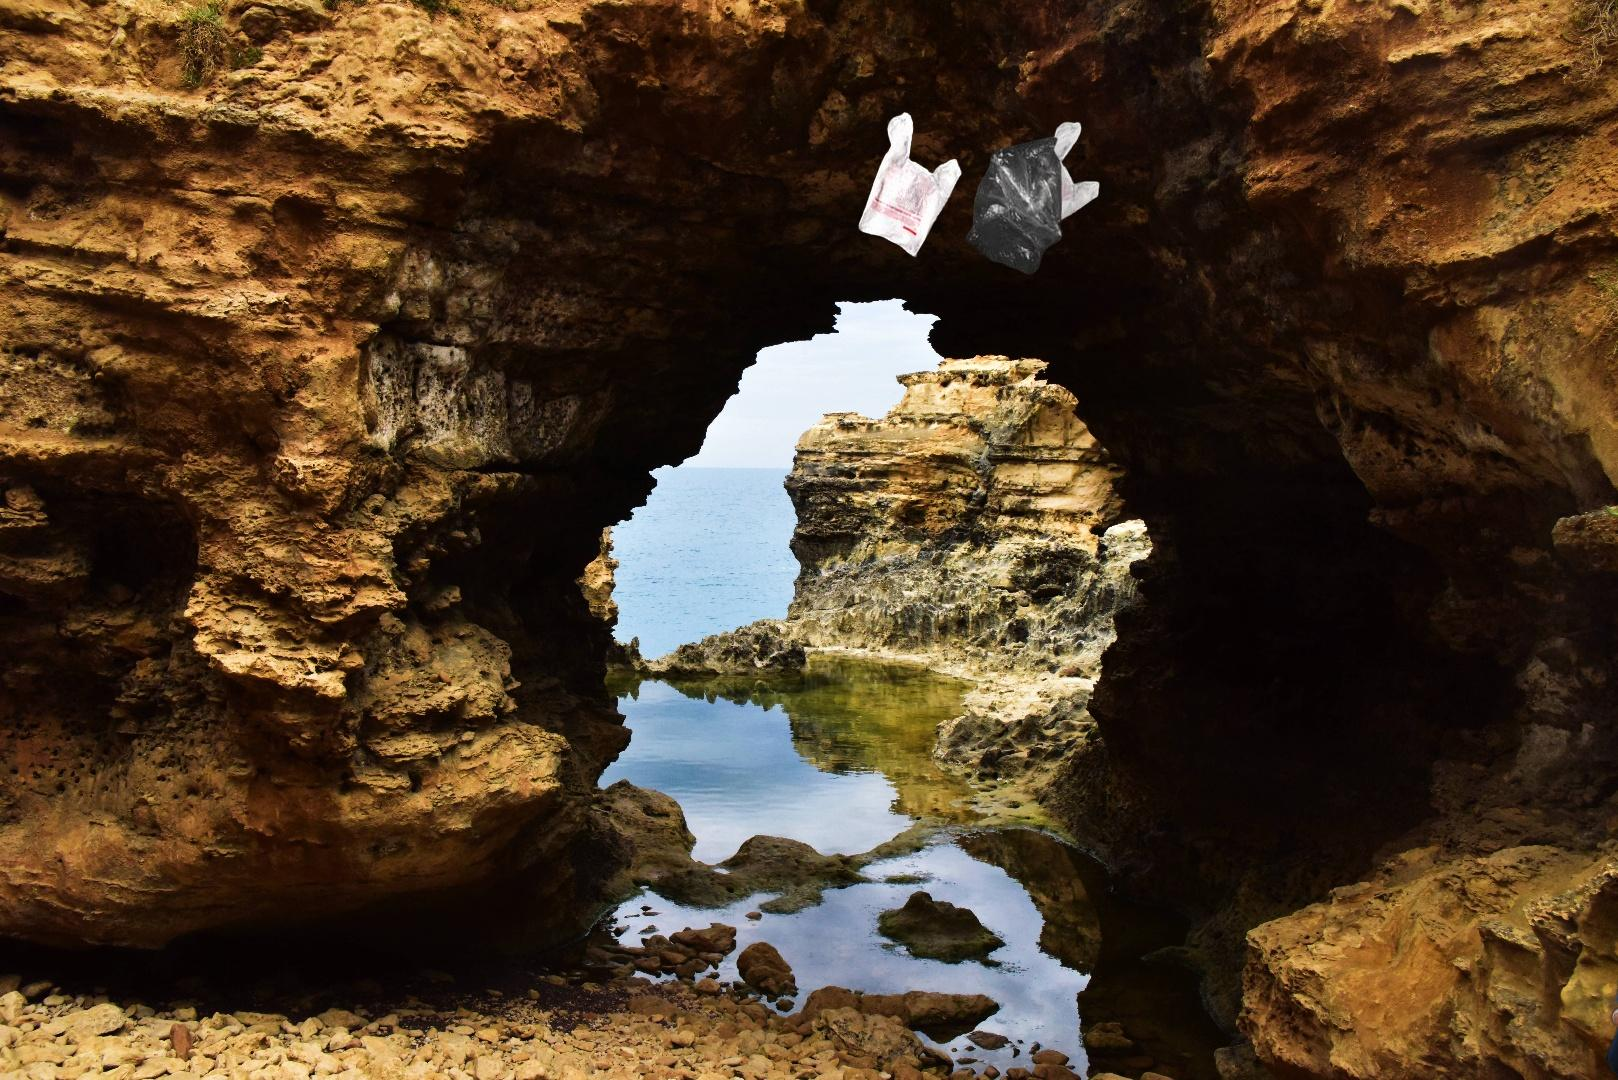plastic-bag: (857, 110, 1104, 277)
trashbox-cardboard: (1537, 912, 1618, 1080)
